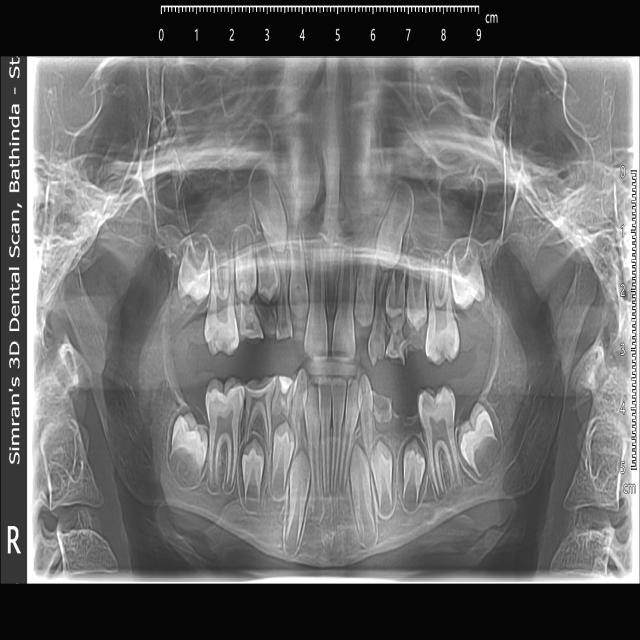Filling: (276, 375, 296, 405)
Missing teeth: (395, 395, 413, 433)
Root Piece: (374, 393, 393, 428)
